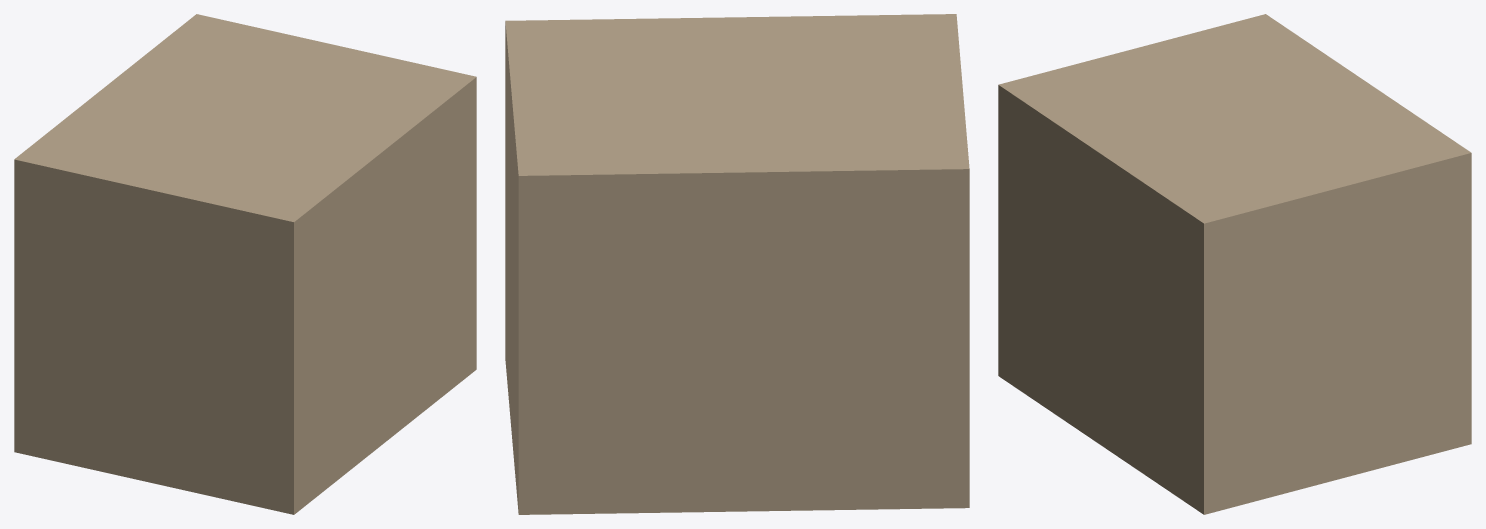
File: bld_100469745.dae
3 renders of one model, left to right at view 1: azimuth 30°, elevation 25°; view 2: azimuth 150°, elevation 25°; view 3: azimuth 270°, elevation 25°, orthographic. The views are drawn at different scales.
Parts seen in each view (by area): view 1: bld_100469745; view 2: bld_100469745; view 3: bld_100469745.
Boxes of the visible parts, x1,y1,x2,y2 form: bld_100469745: (14,14,476,514); bld_100469745: (505,14,969,514); bld_100469745: (998,14,1471,514).
Size of the model in its own units: 12.35 by 11.78 by 8.
